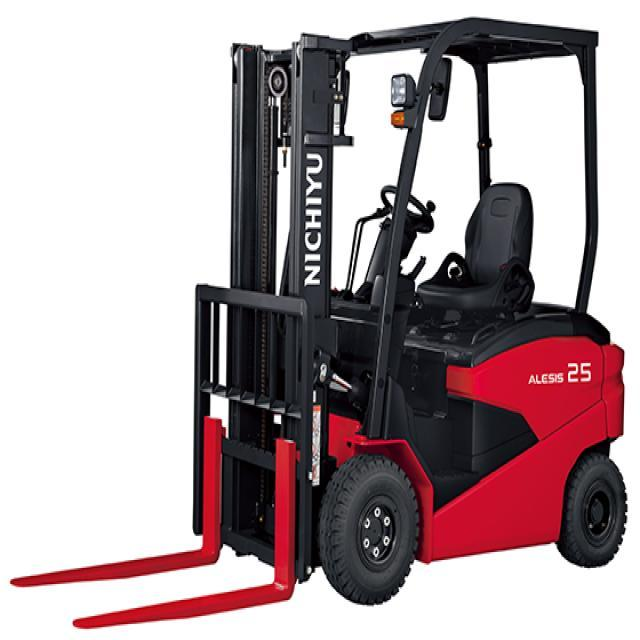forklift: (155, 12, 630, 626)
